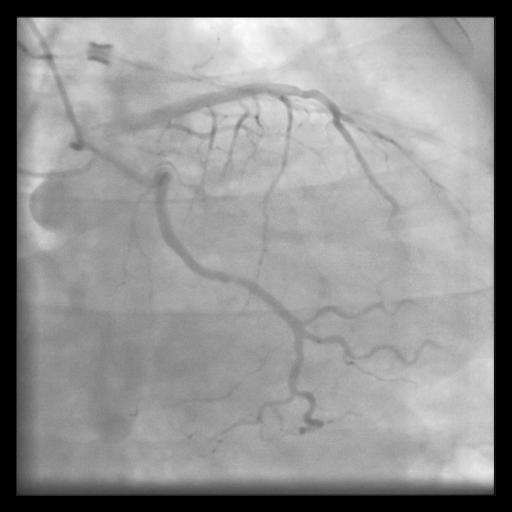Stenosis: (227, 270, 243, 285)
